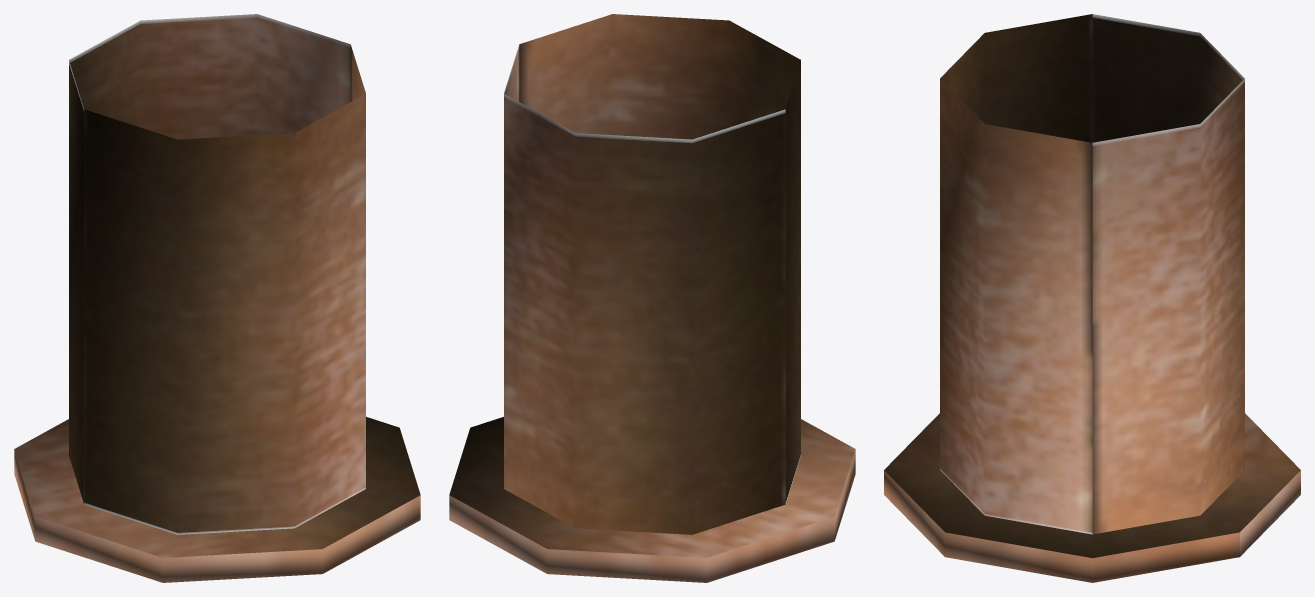
File: ceiling_tube.FBX
3 views of the same model, side by side, from view 1: azimuth 30°, elevation 25°; view 2: azimuth 150°, elevation 25°; view 3: azimuth 270°, elevation 25° (orthographic).
Visible parts, largest first — view 1: ceiling_tube; view 2: ceiling_tube; view 3: ceiling_tube.
Boxes of the visible parts, x1,y1,x2,y2 form: ceiling_tube: (14, 14, 420, 582); ceiling_tube: (449, 14, 855, 582); ceiling_tube: (884, 14, 1300, 582).
Bounding box in the file's own units: 45.13 × 49.73 × 45.13.
